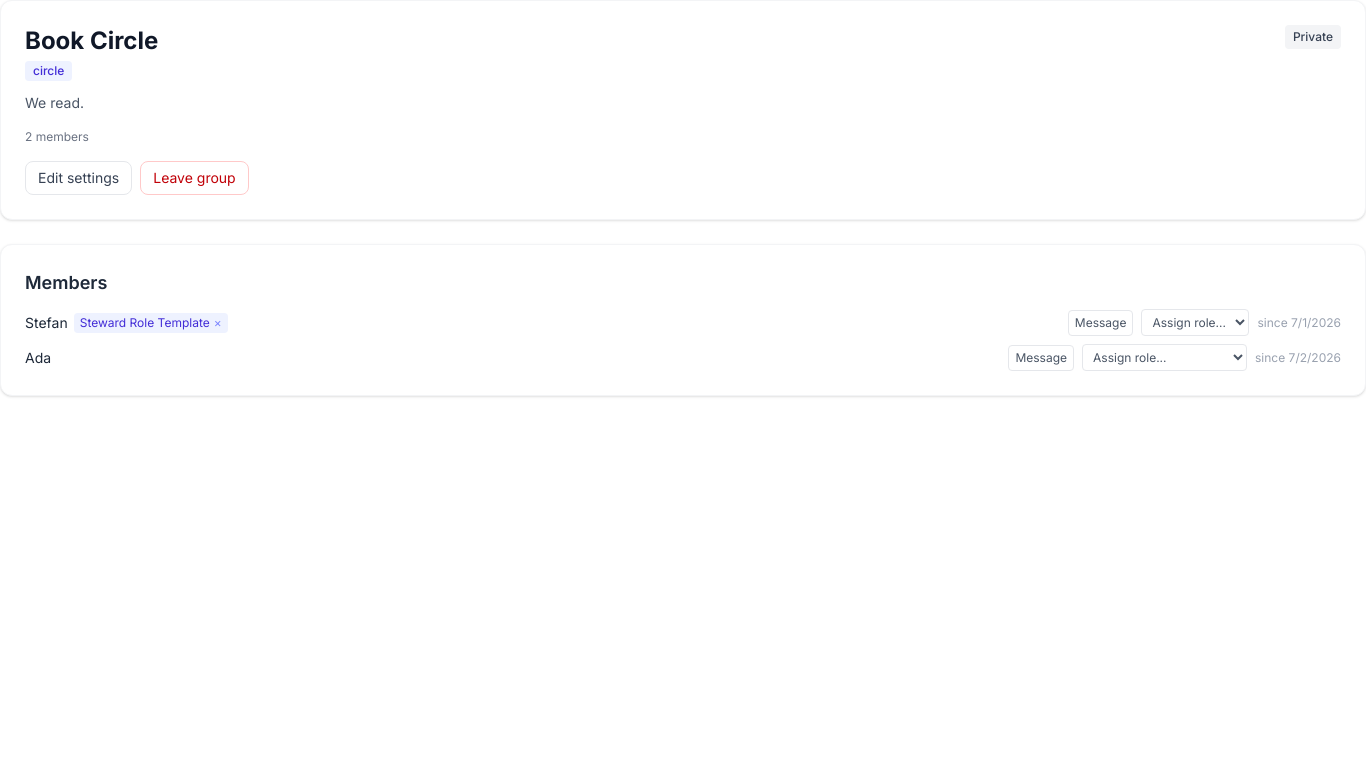
Test: FEAT-H014 — member-list role chips + assignment (STORY-3) › surfaces the last-Steward refusal in place — the chip stays, never pre-empted
Click the button named "remove steward role template from stefan" at (218,322), box [214,314,222,330]
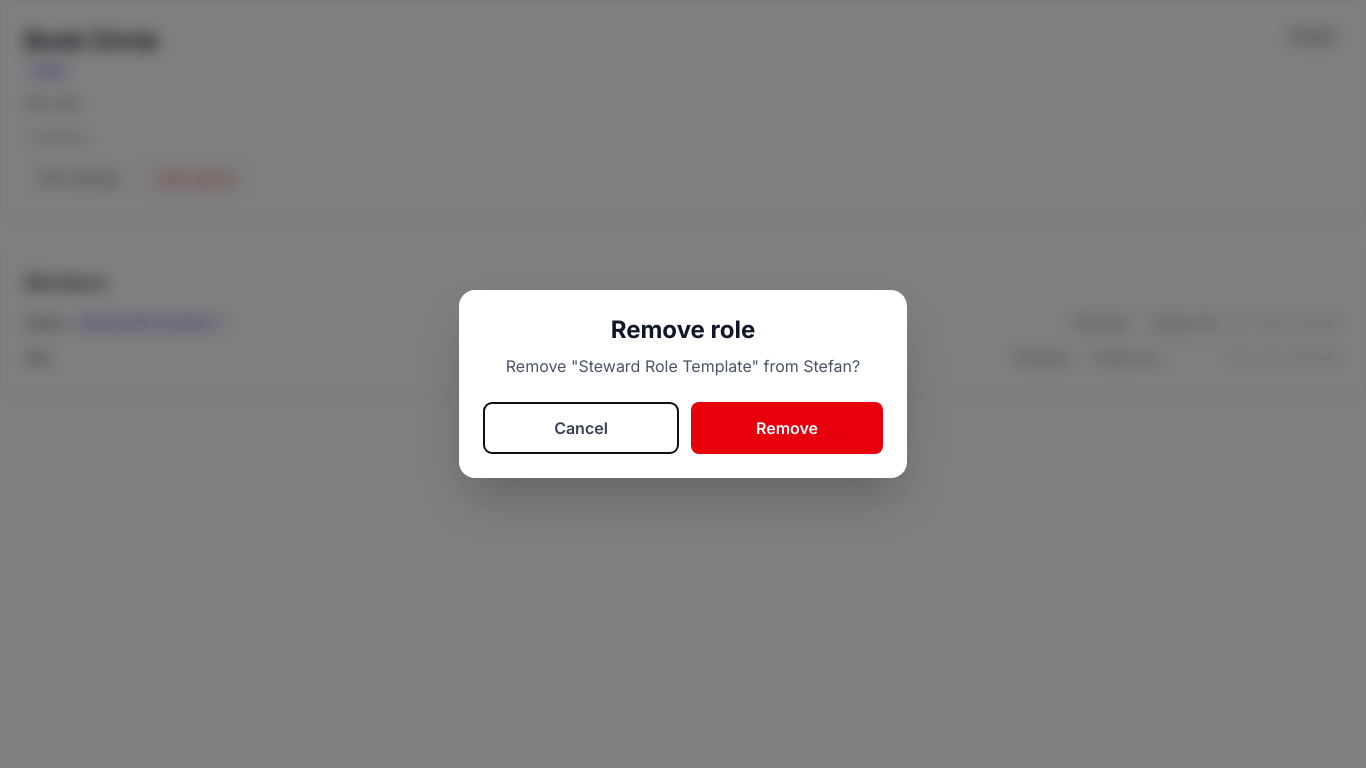
Click the button with test id "confirm-modal-confirm" at (787,428), box [691,402,883,454]
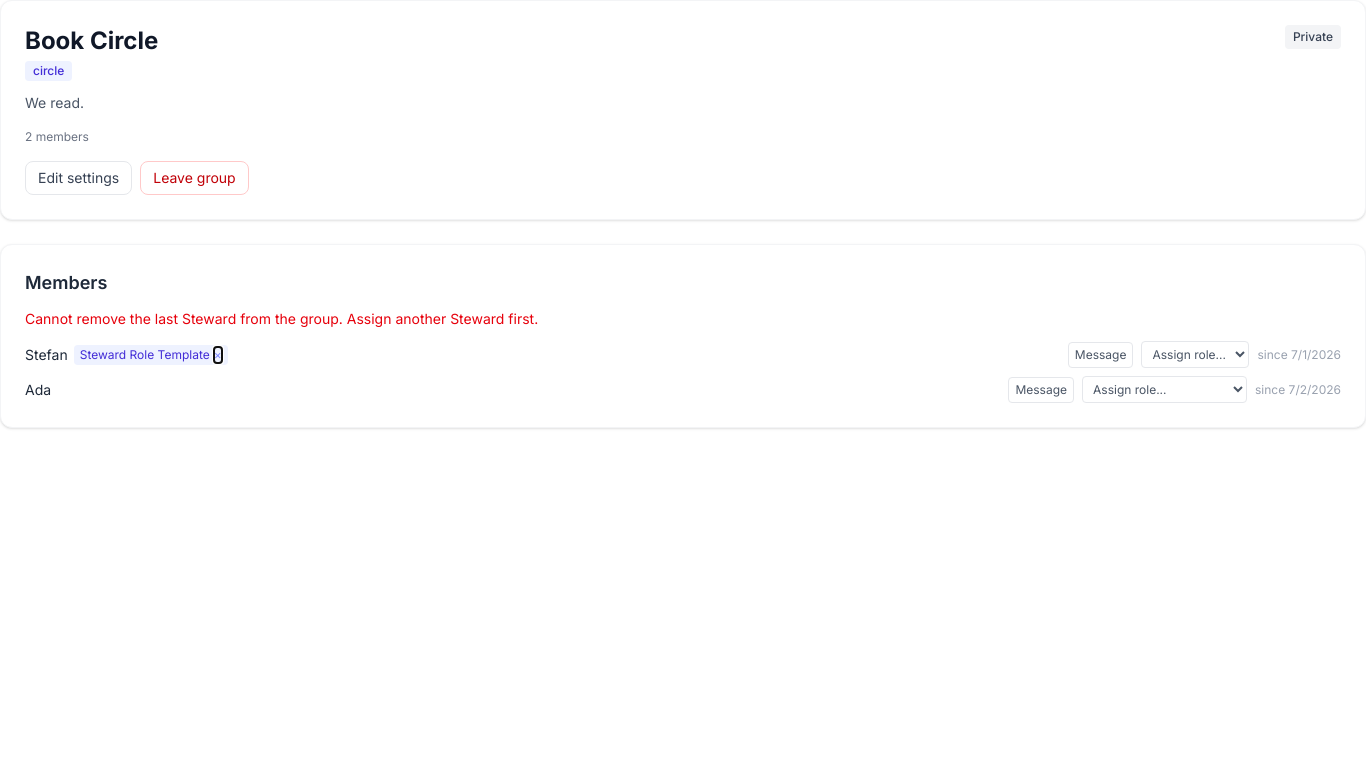
Expected: the text "Steward Role Template" is shown, [80,346,210,362]
Expected: the message shows "last Steward", [25,310,538,327]
